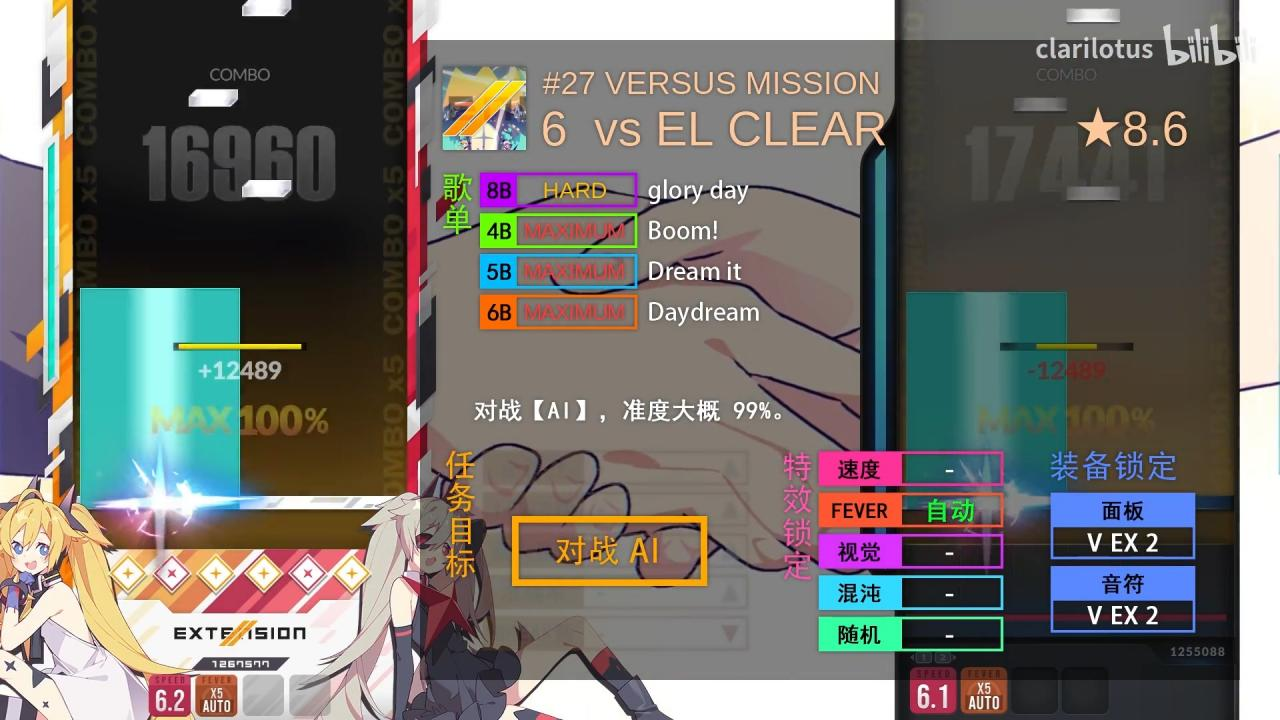note: (188, 89, 238, 107), (242, 180, 292, 198), (241, 0, 291, 16)
side-end: (80, 288, 240, 302)
